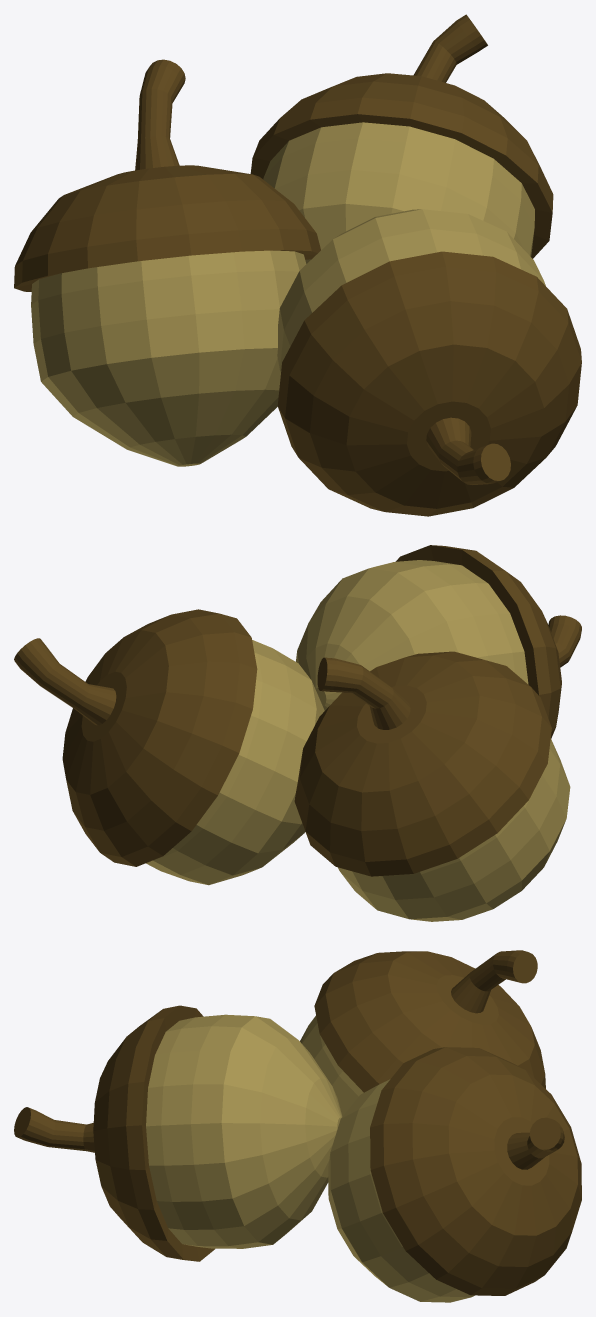
The model's file is acorns_bad.fbx.
3 views of the same model, one above another, from view 1: azimuth 30°, elevation 25°; view 2: azimuth 150°, elevation 25°; view 3: azimuth 270°, elevation 25° (orthographic). The views are drawn at different scales.
Parts seen in each view (by area): view 1: Cylinder.002, Cylinder, Cylinder.001; view 2: Cylinder, Cylinder.001, Cylinder.002; view 3: Cylinder.002, Cylinder.001, Cylinder.
Boxes of the visible parts, <box> form: Cylinder.002: <box>277,209,581,516</box>; Cylinder: <box>14,59,320,466</box>; Cylinder.001: <box>250,14,553,263</box>; Cylinder: <box>294,651,570,921</box>; Cylinder.001: <box>14,609,324,885</box>; Cylinder.002: <box>296,545,581,738</box>; Cylinder.002: <box>14,1005,342,1261</box>; Cylinder.001: <box>328,1047,581,1302</box>; Cylinder: <box>300,950,545,1116</box>.
Bounding box in the file's own units: 391 × 233 × 444.
